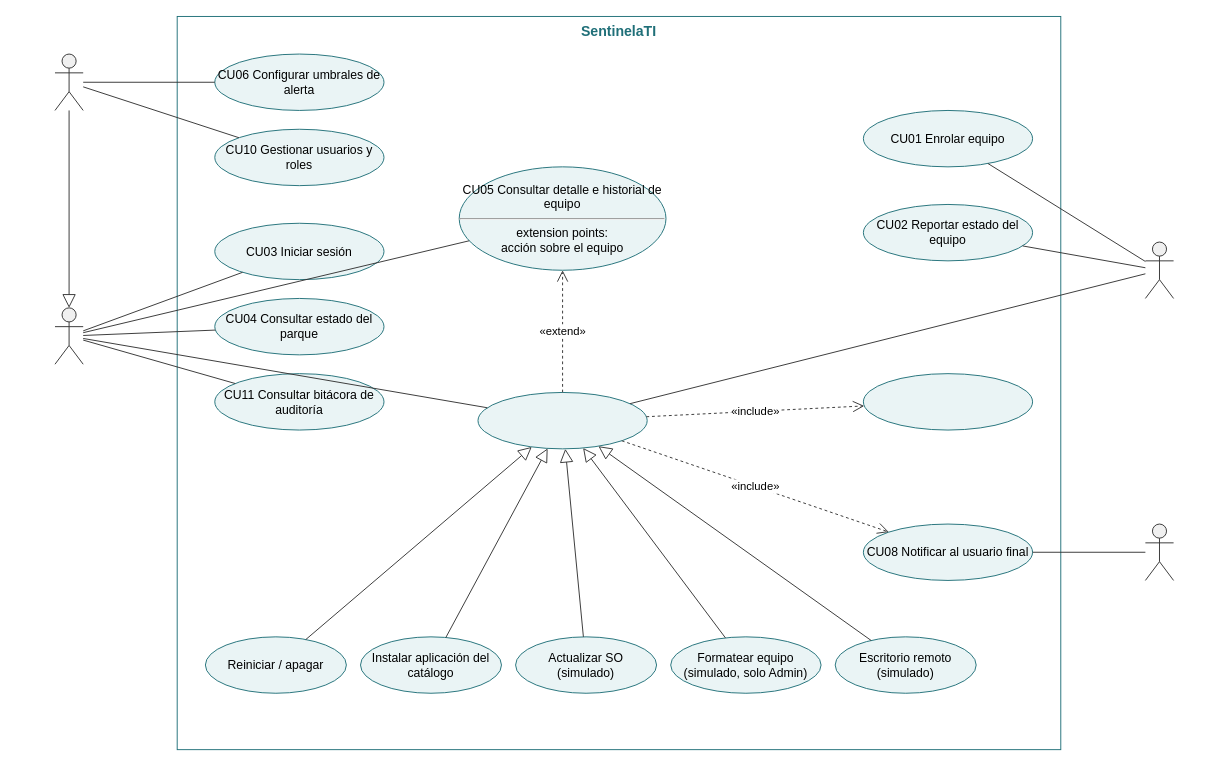
Some shapes in this 1209 by 766 pixel diagram are drawn without their labels. Each missing label, with the centre of its shape:
Administrador de TI: point (68, 81)
Agente «sistema»: point (1159, 269)
CU07 Ejecutar acción remota: point (562, 420)
CU09 Registrar en bitácora de auditoría: point (947, 401)
Técnico de TI: point (68, 335)
Usuario final: point (1159, 551)
